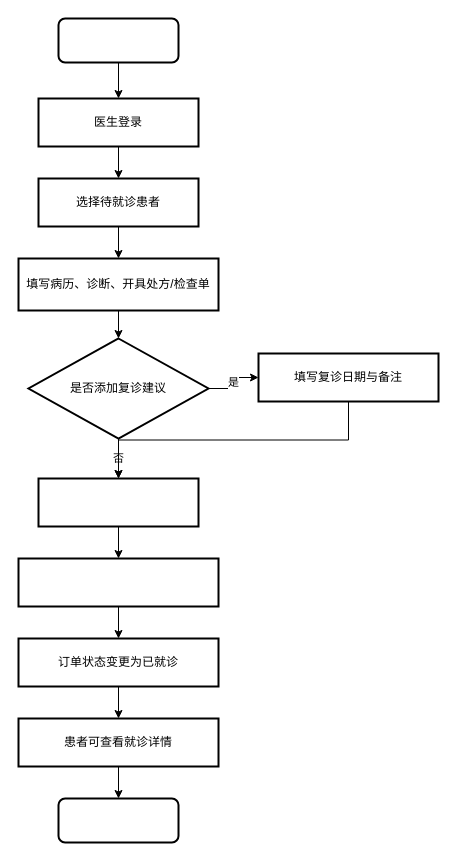
The diagram is 456 pixels wide and 860 high, and some of its shapes have lost their labels. Here are the shapes that lost their labels. From the top down, the centre of each, then its label:
the point at 118,40: 开始
the point at 118,502: 提交接诊
the point at 118,582: 生成病历与处方记录
the point at 118,820: 结束
